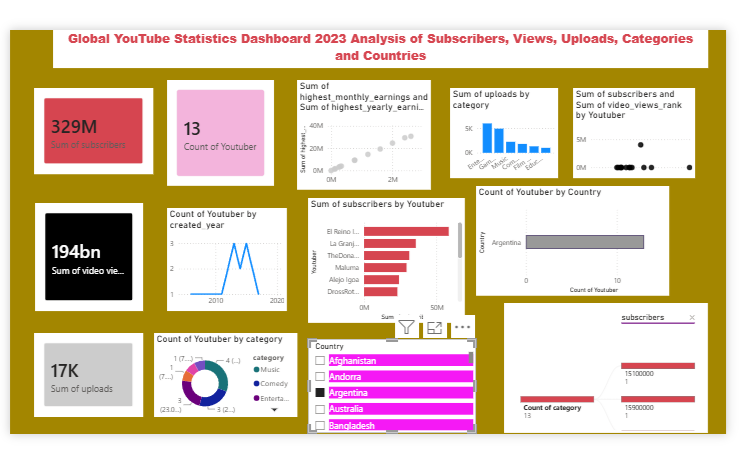

The page's visual inventory and layout, read from the dashboard file:
{"tool":"powerbi","page":{"name":"Page 1","canvas":[1280,720],"ordinal":0},"visuals":[{"type":"cardVisual","fields":{"Data":["Sum(Global YouTube Statistics.subscribers)"]},"box":[42.9,103.6,212.5,153.6],"z":0},{"type":"cardVisual","fields":{"Data":["Sum(Global YouTube Statistics.video views)"]},"box":[44.6,308.9,192.9,192.9],"z":1000},{"type":"cardVisual","fields":{"Data":["Sum(Global YouTube Statistics.uploads)"]},"box":[42.9,541.1,194.6,150],"z":2000},{"type":"cardVisual","fields":{"Data":["Count(Global YouTube Statistics.Youtuber)"]},"box":[280.4,89.3,191.1,189.3],"z":3000},{"type":"clusteredBarChart","fields":{"Category":["Global YouTube Statistics.Youtuber"],"Y":["Sum(Global YouTube Statistics.subscribers)"]},"box":[532.1,300,280.4,223.2],"z":4000},{"type":"decompositionTreeVisual","fields":{"Analyze":["CountNonNull(Global YouTube Statistics.category)"],"ExplainBy":["Global YouTube Statistics.subscribers"]},"box":[882.1,487.5,364.3,232.1],"z":5000},{"type":"clusteredBarChart","fields":{"Y":["CountNonNull(Global YouTube Statistics.Youtuber)"],"Category":["Global YouTube Statistics.Country"]},"box":[832.1,278.6,344.6,196.4],"z":6000},{"type":"donutChart","fields":{"Category":["Global YouTube Statistics.category"],"Y":["CountNonNull(Global YouTube Statistics.Youtuber)"]},"box":[257.1,541.1,256,150],"z":7000},{"type":"scatterChart","fields":{"X":["Sum(Global YouTube Statistics.subscribers)"],"Y":["Sum(Global YouTube Statistics.video_views_rank)"],"Category":["Global YouTube Statistics.Youtuber"]},"box":[1005.4,103.6,217.9,160.7],"z":8000},{"type":"scatterChart","fields":{"X":["Sum(Global YouTube Statistics.highest_monthly_earnings)"],"Y":["Sum(Global YouTube Statistics.highest_yearly_earnings)"],"Category":["Global YouTube Statistics.Youtuber"]},"box":[512.5,89.3,239.3,196.4],"z":9000},{"type":"clusteredColumnChart","fields":{"Y":["Sum(Global YouTube Statistics.uploads)"],"Category":["Global YouTube Statistics.category"]},"box":[785.7,103.6,192.9,160.7],"z":10000},{"type":"lineChart","fields":{"Category":["Global YouTube Statistics.created_year"],"Y":["CountNonNull(Global YouTube Statistics.Youtuber)"]},"box":[280.4,317.9,214.3,183.9],"z":11000},{"type":"slicer","fields":{"Values":["Global YouTube Statistics.Country"]},"box":[532.1,551.8,300,167.9],"z":12000},{"type":"textbox","title":"Global YouTube Statistics Dashboard 2023 Analysis of Subscribers, Views, Uploads, Categories and Countries","box":[76.8,0,1169.6,67.9],"z":13000}]}

Visuals, with their boxes in screenshot pixels (x1, y1, x2, y2):
cardVisual - Sum(Global YouTube Statistics.subscribers): {"left": 35, "top": 88, "right": 153, "bottom": 173}
cardVisual - Sum(Global YouTube Statistics.video views): {"left": 36, "top": 202, "right": 143, "bottom": 308}
cardVisual - Sum(Global YouTube Statistics.uploads): {"left": 35, "top": 330, "right": 143, "bottom": 413}
cardVisual - Count(Global YouTube Statistics.Youtuber): {"left": 166, "top": 80, "right": 272, "bottom": 185}
clusteredBarChart - Global YouTube Statistics.Youtuber x Sum(Global YouTube Statistics.subscribers): {"left": 305, "top": 197, "right": 460, "bottom": 320}
decompositionTreeVisual - CountNonNull(Global YouTube Statistics.category) x Global YouTube Statistics.subscribers: {"left": 499, "top": 300, "right": 700, "bottom": 428}
clusteredBarChart - CountNonNull(Global YouTube Statistics.Youtuber) x Global YouTube Statistics.Country: {"left": 471, "top": 185, "right": 661, "bottom": 293}
donutChart - Global YouTube Statistics.category x CountNonNull(Global YouTube Statistics.Youtuber): {"left": 154, "top": 330, "right": 295, "bottom": 413}
scatterChart - Sum(Global YouTube Statistics.subscribers) x Sum(Global YouTube Statistics.video_views_rank): {"left": 567, "top": 88, "right": 687, "bottom": 177}
scatterChart - Sum(Global YouTube Statistics.highest_monthly_earnings) x Sum(Global YouTube Statistics.highest_yearly_earnings): {"left": 295, "top": 80, "right": 427, "bottom": 189}
clusteredColumnChart - Sum(Global YouTube Statistics.uploads) x Global YouTube Statistics.category: {"left": 445, "top": 88, "right": 552, "bottom": 177}
lineChart - Global YouTube Statistics.created_year x CountNonNull(Global YouTube Statistics.Youtuber): {"left": 166, "top": 206, "right": 285, "bottom": 308}
slicer - Global YouTube Statistics.Country: {"left": 305, "top": 336, "right": 471, "bottom": 428}
"Global YouTube Statistics Dashboard 2023 Analysis of Subscribers, Views, Uploads, Categories and Countries" textbox: {"left": 54, "top": 31, "right": 700, "bottom": 68}
